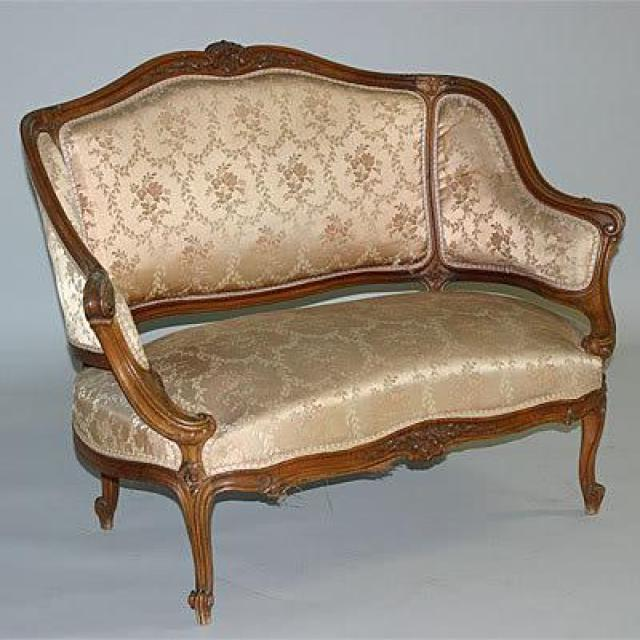sofa: (19, 41, 626, 625)
